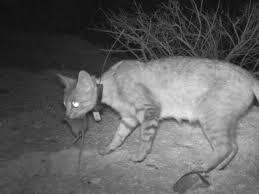house cat: (55, 61, 259, 174)
